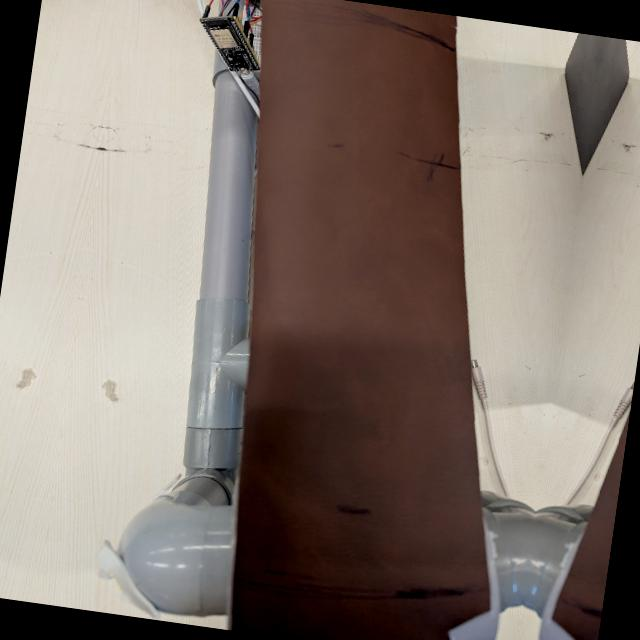belt_tear: (442, 582, 508, 640), (534, 594, 598, 640)
